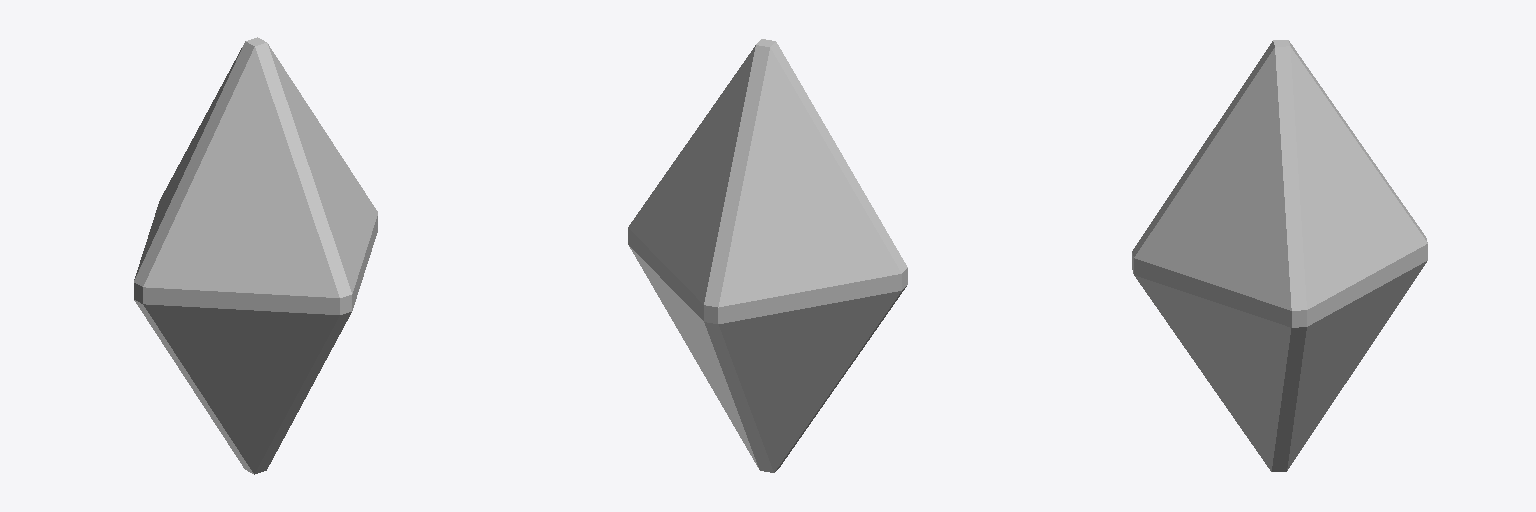
File: character_model.obj
3 renders of one model, left to right at view 1: azimuth 30°, elevation 25°; view 2: azimuth 150°, elevation 25°; view 3: azimuth 270°, elevation 25°, orthographic.
Parts seen in each view (by area): view 1: Jewel; view 2: Jewel; view 3: Jewel.
Part boxes in pixels (x1,y1,x2,y2): Jewel: (134,37,377,474); Jewel: (628,39,907,472); Jewel: (1132,40,1427,471).
Size of the model in its own units: 0.237 by 0.3766 by 0.237.